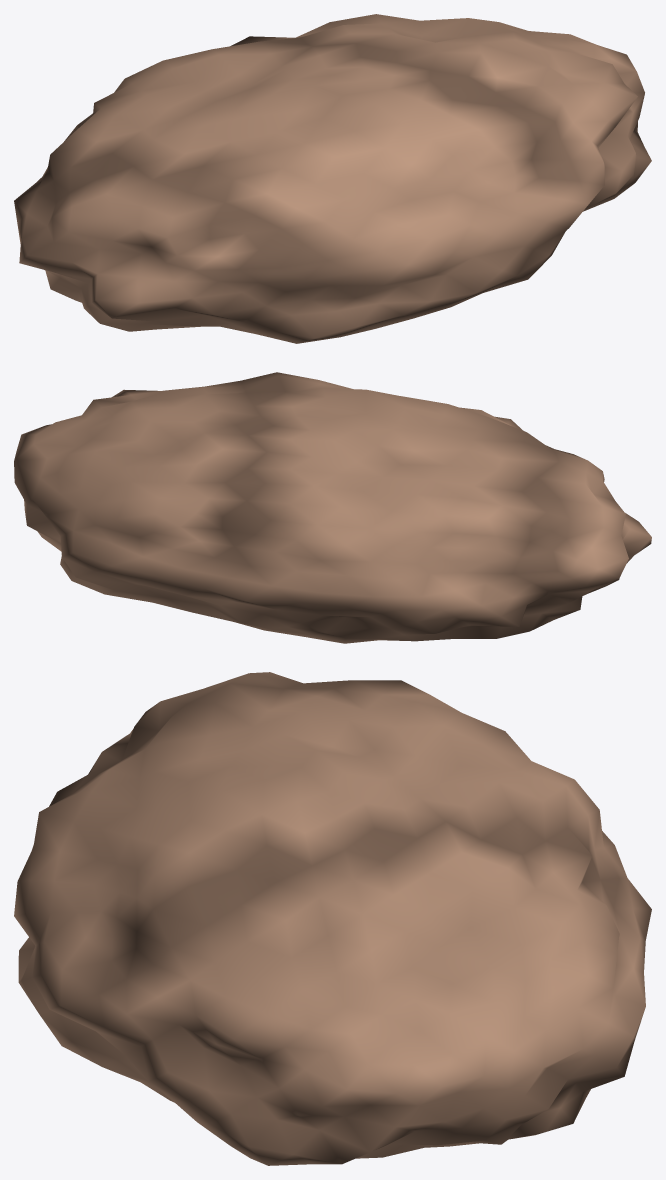
Rendered from cooked-wolf-meat.glb.
The picture shows the model from 3 angles, top to bottom: view 1: azimuth 30°, elevation 25°; view 2: azimuth 150°, elevation 25°; view 3: azimuth 270°, elevation 25°; orthographic projection. The views are drawn at different scales.
Parts seen in each view (by area): view 1: Body_lod0; view 2: Body_lod0; view 3: Body_lod0.
Boxes of the visible parts, x1=… form: Body_lod0: x1=14, y1=14, x2=651, y2=343; Body_lod0: x1=14, y1=372, x2=651, y2=643; Body_lod0: x1=14, y1=672, x2=651, y2=1165.
Size of what is drawn, in the model's own units: 0.1221 by 0.0313 by 0.0812.
